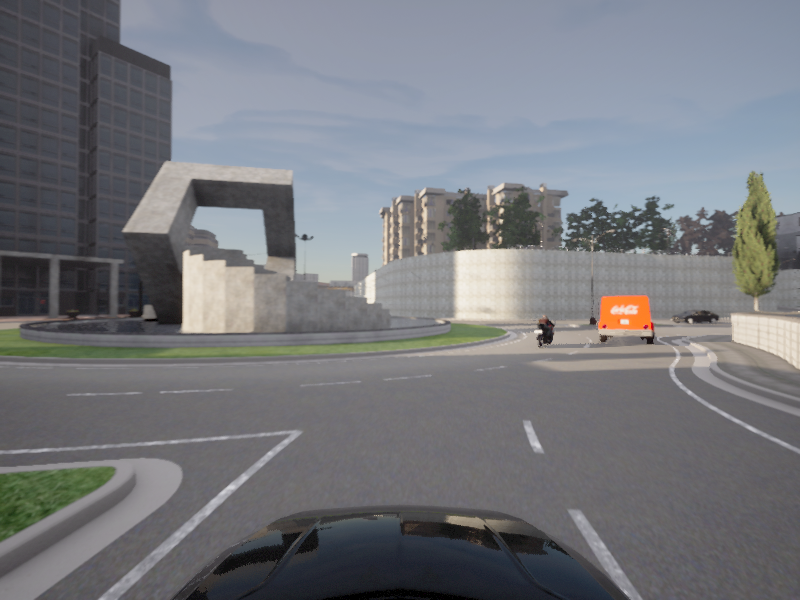vehicle: (595, 294, 656, 345), (528, 314, 559, 349)
